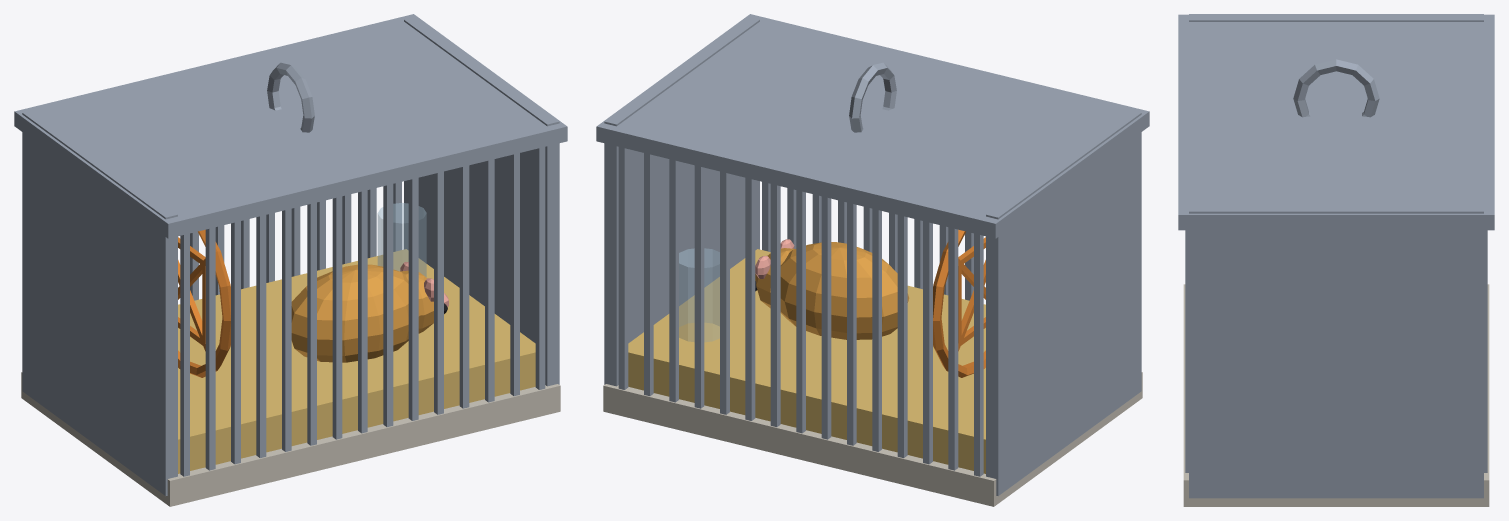
The model's file is hero_hamster.glb.
3 renders of one model, left to right at view 1: azimuth 30°, elevation 25°; view 2: azimuth 150°, elevation 25°; view 3: azimuth 270°, elevation 25°, orthographic. The views are drawn at different scales.
Parts seen in each view (by area): view 1: hero_hamster; view 2: hero_hamster; view 3: hero_hamster.
Part boxes in pixels (x1=…): hero_hamster: x1=14, y1=14, x2=567, y2=506; hero_hamster: x1=596, y1=14, x2=1149, y2=506; hero_hamster: x1=1178, y1=14, x2=1494, y2=506.
Size of the model in its own units: 0.45 by 0.366 by 0.3.
